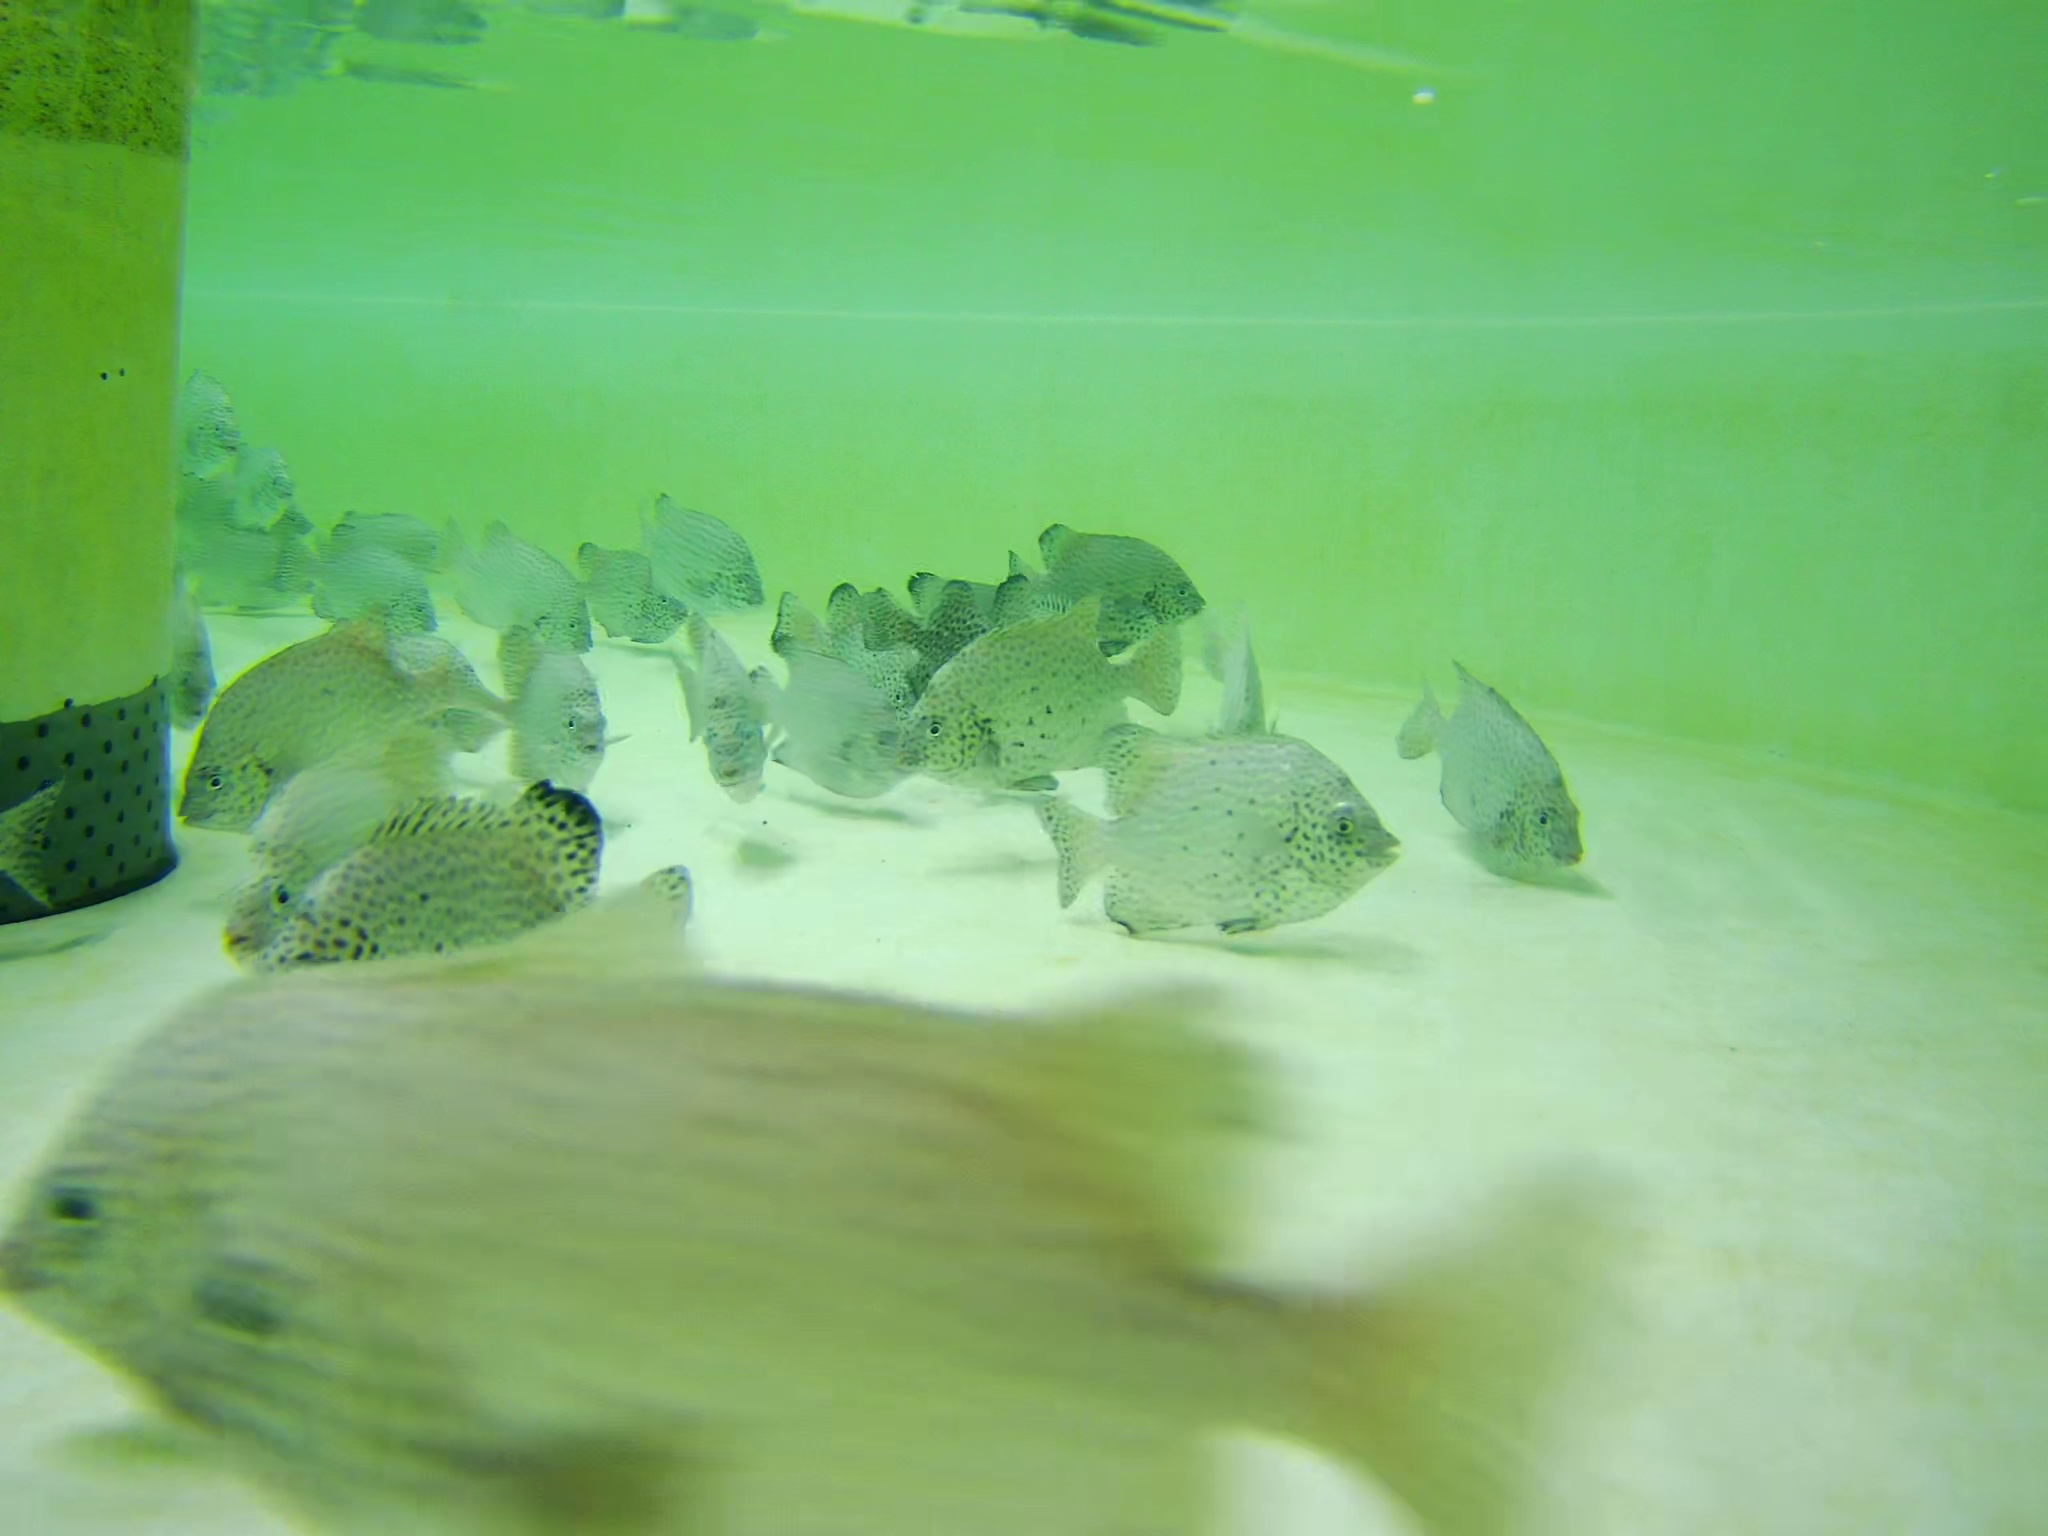fish: (169, 989, 1630, 1536), (2, 883, 974, 1523), (1009, 718, 1397, 949), (258, 786, 635, 994), (168, 607, 498, 828), (221, 750, 505, 970), (897, 599, 1184, 789), (1408, 658, 1584, 889), (763, 631, 903, 803), (1003, 520, 1208, 629), (771, 591, 982, 695), (898, 565, 1093, 676), (456, 516, 600, 652), (518, 636, 622, 818), (685, 620, 774, 824), (292, 510, 427, 642), (645, 486, 764, 615), (1195, 599, 1279, 750), (195, 513, 313, 615), (582, 542, 689, 642), (345, 507, 458, 584), (2, 776, 53, 912), (184, 369, 248, 476), (229, 440, 295, 529), (171, 600, 214, 728)
